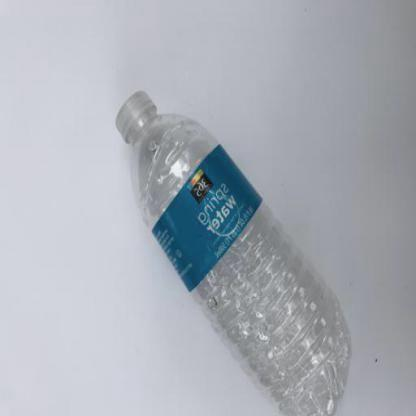Plastic: (102, 86, 354, 416)
